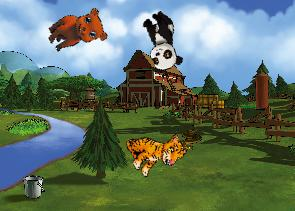bear: (42, 0, 112, 65)
panda: (137, 8, 185, 74)
tiger: (120, 117, 189, 183)
